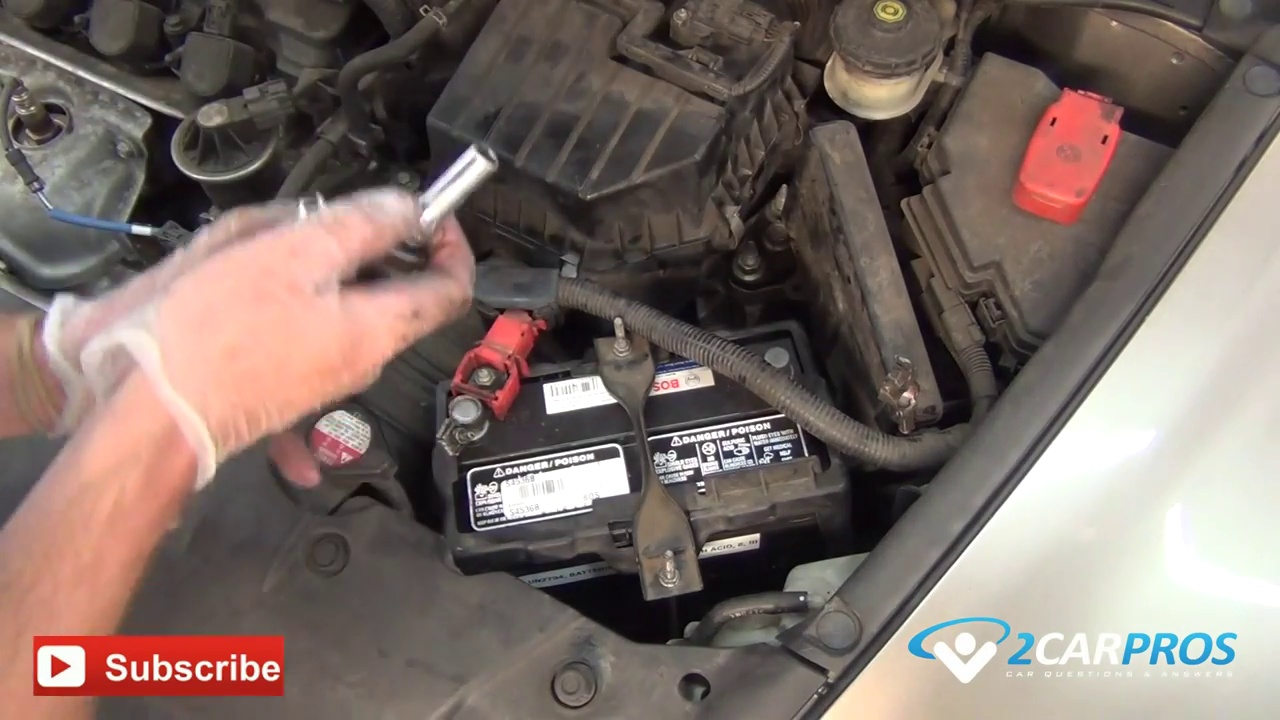battery: (428, 306, 856, 574)
neg_disconnected: (737, 305, 813, 394)
pos_connected: (417, 290, 553, 460)
